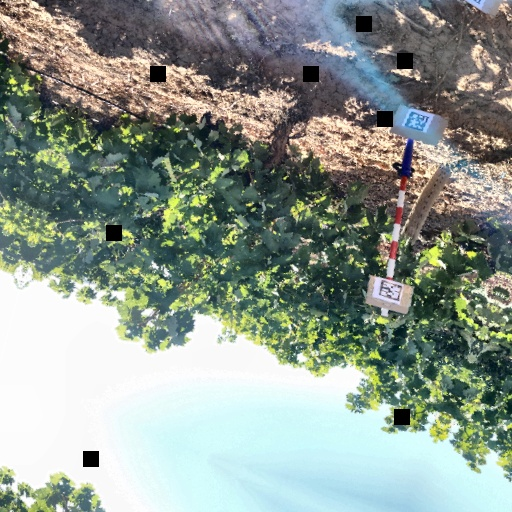QR: (401, 106, 434, 137), (374, 276, 406, 306)
